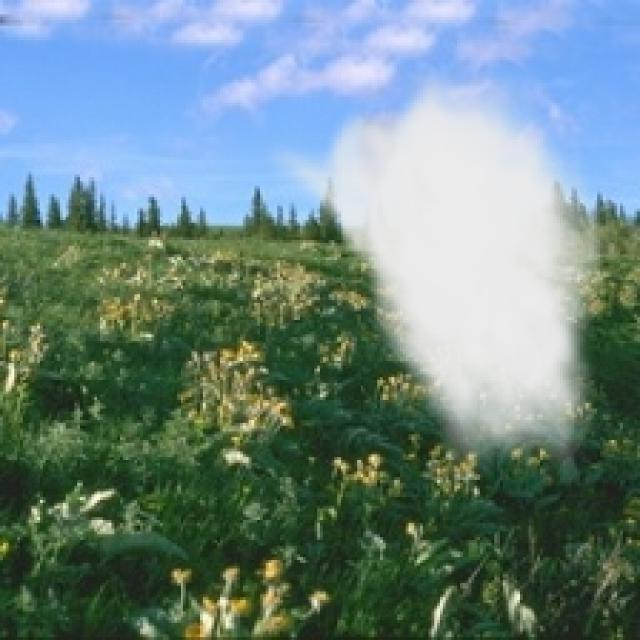smoke: (260, 60, 611, 486)
